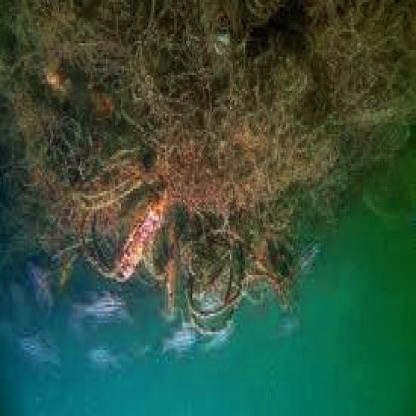net: (35, 2, 384, 280)
